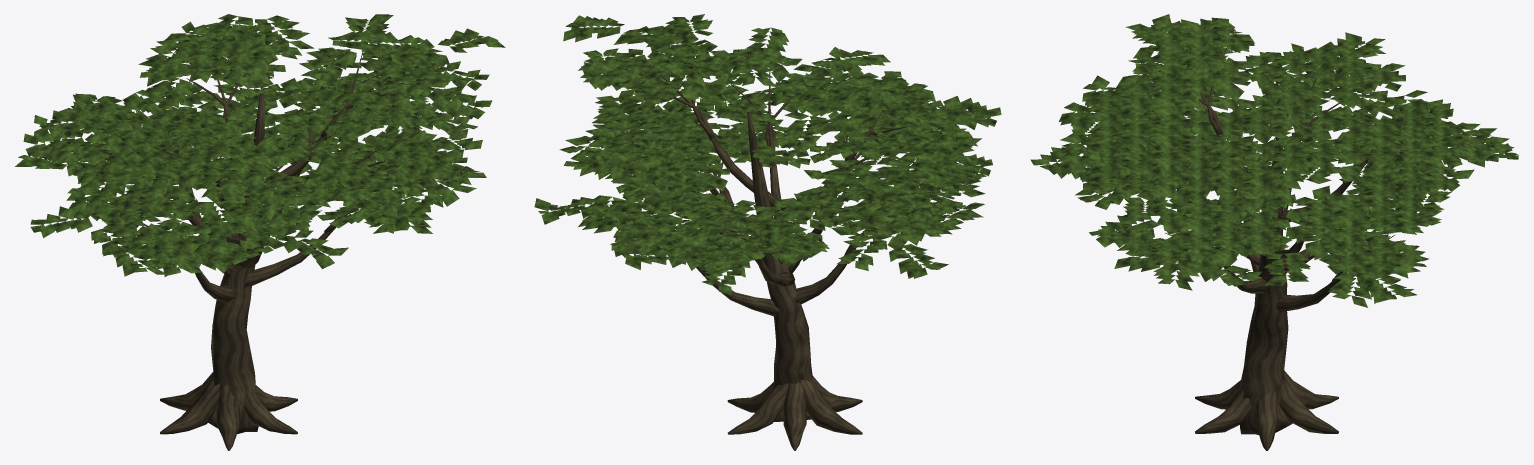
Rendered from tree_fork.glb.
The picture shows the model from 3 angles, left to right: view 1: azimuth 30°, elevation 25°; view 2: azimuth 150°, elevation 25°; view 3: azimuth 270°, elevation 25°; orthographic projection. The views are drawn at different scales.
Parts seen in each view (by area): view 1: tree_forkMesh; view 2: tree_forkMesh; view 3: tree_forkMesh.
Boxes of the visible parts, left/top/right/bottom form: tree_forkMesh: left=15, top=14, right=505, bottom=450; tree_forkMesh: left=534, top=14, right=1001, bottom=450; tree_forkMesh: left=1030, top=14, right=1518, bottom=450.
Size of the model in its own units: 10.67 by 8.36 by 10.07.
Materials: 2 (2 with a texture image).
